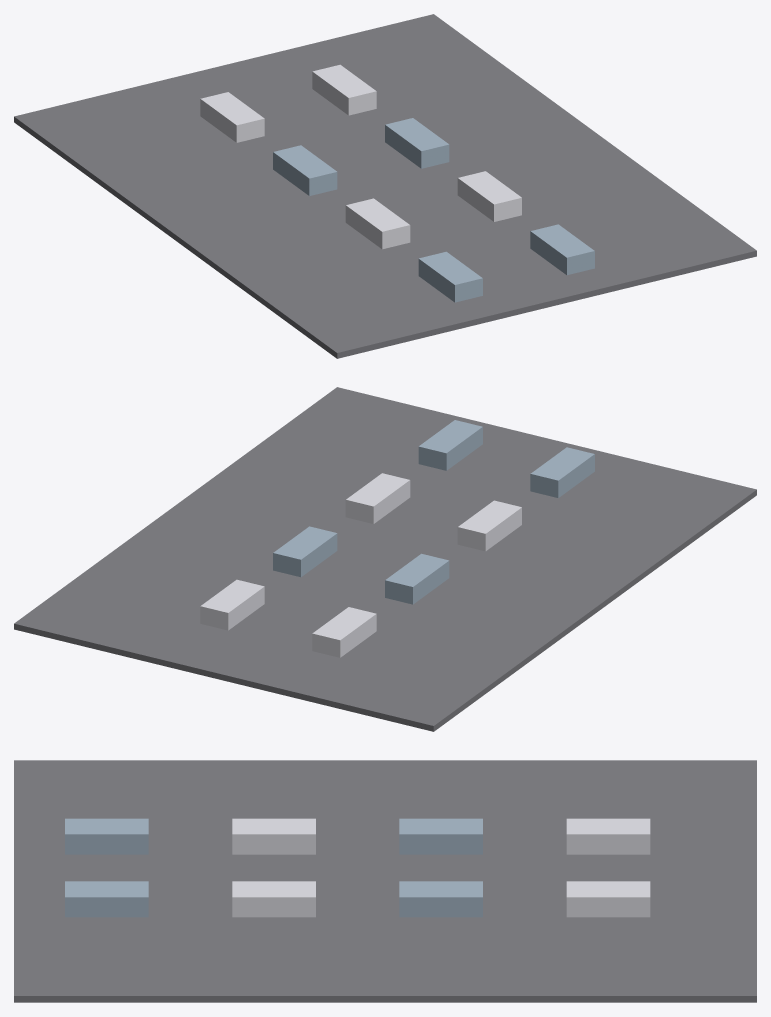
Rendered from parking.glb.
The picture shows the model from 3 angles, top to bottom: view 1: azimuth 30°, elevation 25°; view 2: azimuth 150°, elevation 25°; view 3: azimuth 270°, elevation 25°; orthographic projection. The views are drawn at different scales.
Parts seen in each view (by area): view 1: Cube, Cube.003, Cube.002, Cube.001, Cube.007, Cube.008, Cube.004, Cube.005, Cube.006; view 2: Cube, Cube.004, Cube.002, Cube.007, Cube.008, Cube.003, Cube.006, Cube.001, Cube.005; view 3: Cube, Cube.007, Cube.008, Cube.001, Cube.002, Cube.003, Cube.004, Cube.005, Cube.006.
Part boxes in pixels (left/top/right/bottom): Cube: left=14, top=14, right=756, bottom=358; Cube.003: left=345, top=198, right=410, bottom=249; Cube.002: left=530, top=224, right=594, bottom=275; Cube.001: left=418, top=251, right=482, bottom=302; Cube.007: left=200, top=92, right=264, bottom=142; Cube.008: left=312, top=64, right=376, bottom=115; Cube.004: left=457, top=171, right=521, bottom=221; Cube.005: left=273, top=145, right=337, bottom=195; Cube.006: left=385, top=118, right=449, bottom=168; Cube: left=14, top=387, right=756, bottom=731; Cube.004: left=345, top=473, right=410, bottom=523; Cube.002: left=418, top=420, right=482, bottom=470; Cube.007: left=312, top=607, right=376, bottom=657; Cube.008: left=200, top=579, right=264, bottom=630; Cube.003: left=457, top=500, right=521, bottom=551; Cube.006: left=273, top=526, right=337, bottom=577; Cube.001: left=530, top=447, right=594, bottom=497; Cube.005: left=385, top=553, right=449, bottom=604; Cube: left=14, top=760, right=756, bottom=1002; Cube.007: left=566, top=818, right=650, bottom=854; Cube.008: left=566, top=881, right=650, bottom=917; Cube.001: left=65, top=818, right=148, bottom=854; Cube.002: left=65, top=881, right=148, bottom=917; Cube.003: left=232, top=818, right=315, bottom=854; Cube.004: left=232, top=881, right=315, bottom=917; Cube.005: left=399, top=818, right=482, bottom=854; Cube.006: left=399, top=881, right=482, bottom=917.
Bounding box in the file's own units: 30 × 1.6 × 40.
